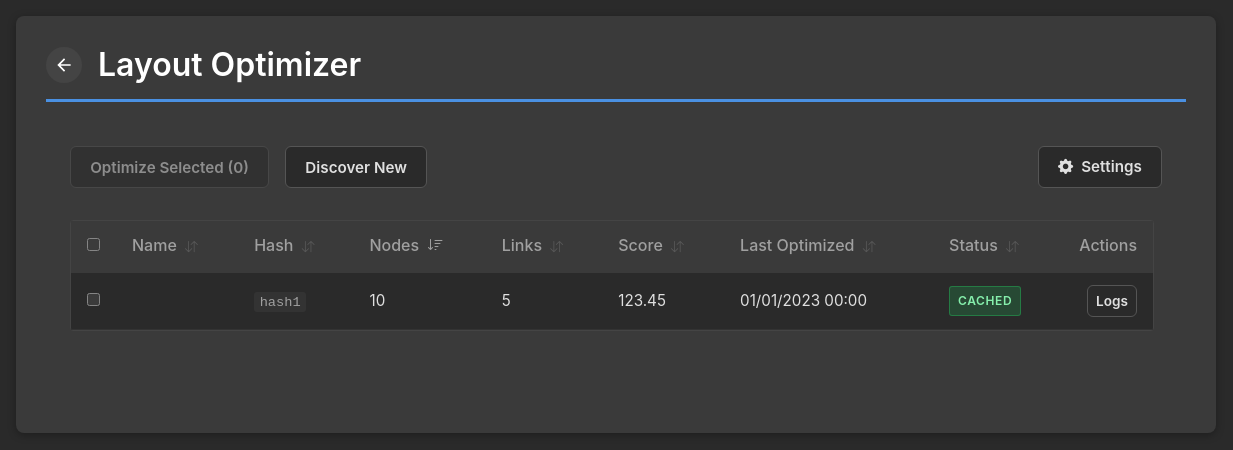
Scenario: AdminOptimizer Page › should allow checkbox selection
Expected: the text "hash1" is shown, [254,292,306,312]
Click the checkbox next to "hash1" at point(94, 299), box [87,293,100,306]
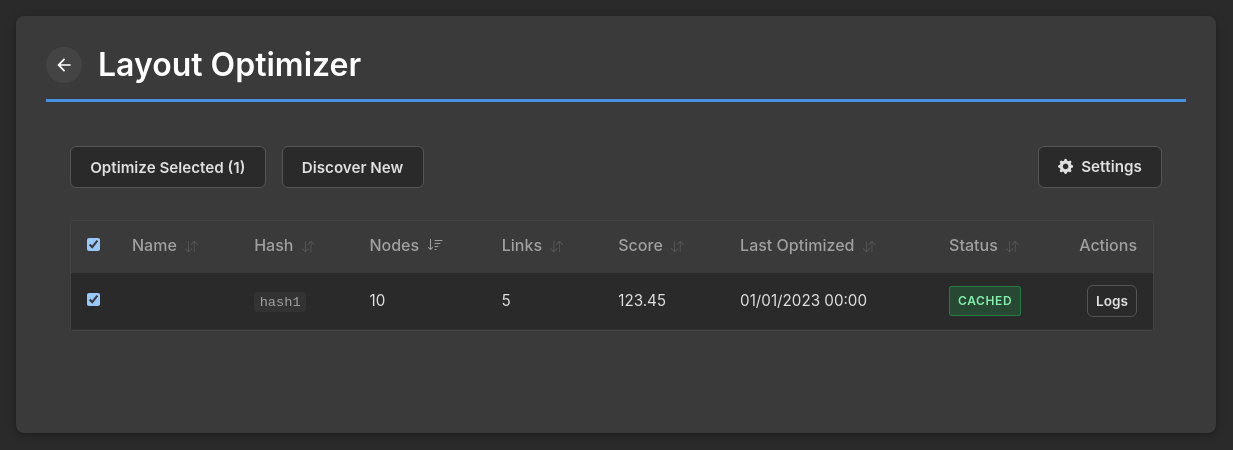
Now the checkbox next to "hash1" is checked, box [87,293,100,306]
Now the button "Optimize Selected (1)" is enabled, box [70,146,266,188]
